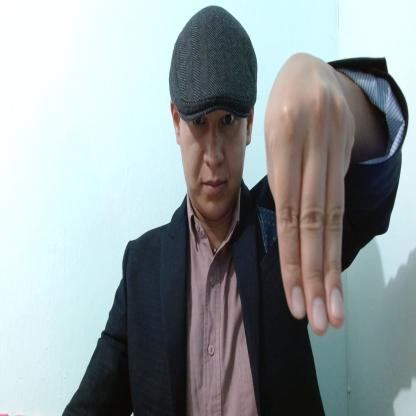M: (264, 49, 356, 334)
